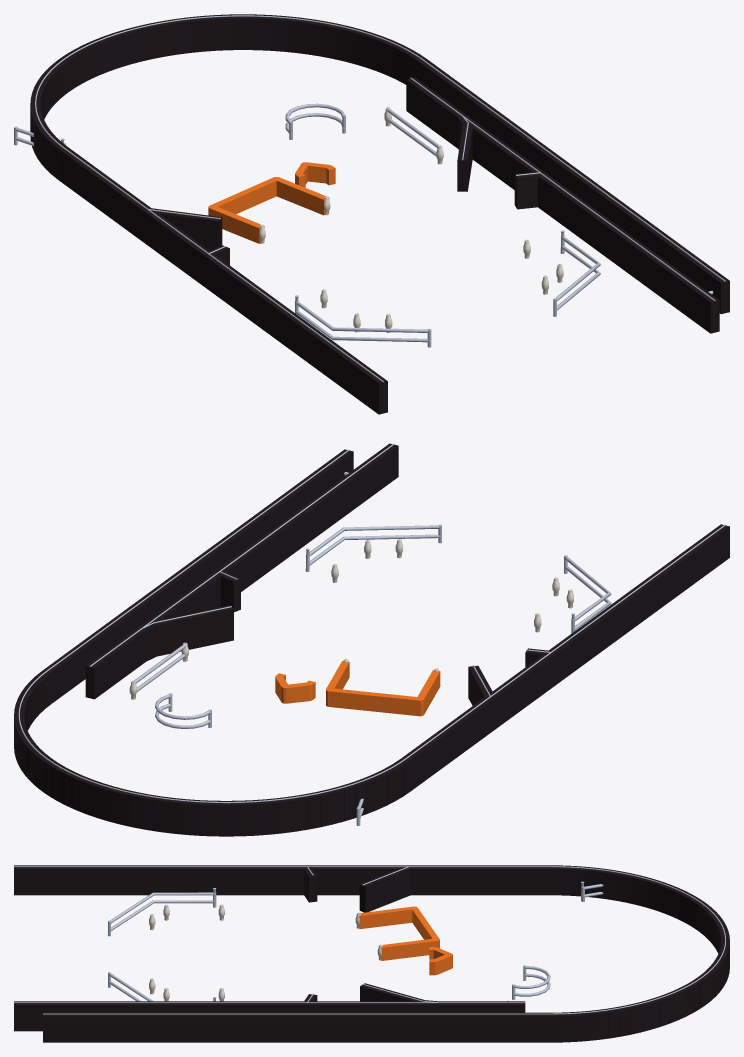
Rendered from Rodent_Guides.glb.
3 renders of one model, top to bottom at view 1: azimuth 30°, elevation 25°; view 2: azimuth 150°, elevation 25°; view 3: azimuth 270°, elevation 25°, orthographic. The views are drawn at different scales.
Parts seen in each view (by area): view 1: Guides_Wood, Guides_Plastic, Guides_Metal, Deco_RailCrests, Posts_Rubber; view 2: Guides_Wood, Guides_Plastic, Guides_Metal, Deco_RailCrests, Posts_Rubber; view 3: Guides_Wood, Deco_RailCrests, Guides_Plastic, Guides_Metal, Posts_Rubber.
Boxes of the visible parts, x1,y1,x2,y2 form: Guides_Wood: (30, 14, 729, 414); Guides_Plastic: (208, 162, 335, 243); Guides_Metal: (14, 103, 713, 347); Deco_RailCrests: (35, 15, 725, 382); Posts_Rubber: (259, 107, 563, 332); Guides_Wood: (14, 443, 729, 836); Guides_Plastic: (275, 661, 440, 716); Guides_Metal: (132, 472, 611, 825); Deco_RailCrests: (18, 443, 725, 803); Posts_Rubber: (129, 539, 573, 699); Guides_Wood: (14, 865, 729, 1042); Deco_RailCrests: (14, 866, 725, 1014); Guides_Plastic: (359, 906, 452, 975); Guides_Metal: (108, 884, 603, 1001); Posts_Rubber: (149, 904, 508, 1001).
Size of the model in its own units: 0.6888 by 0.058 by 1.38.
